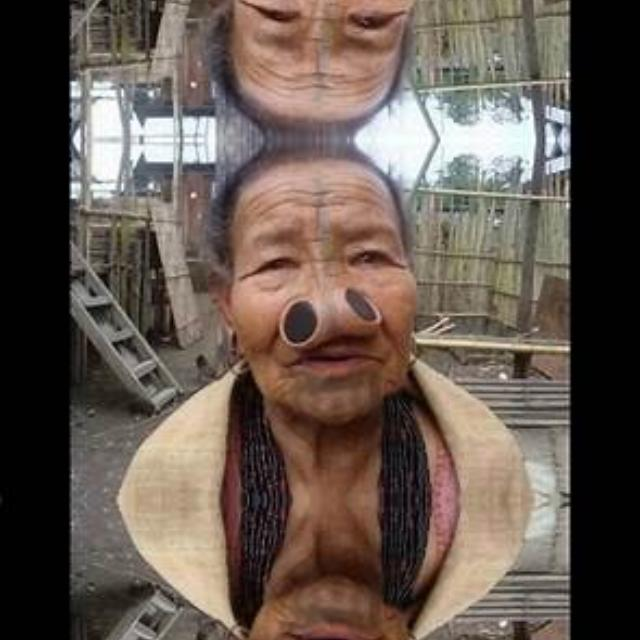person: (151, 141, 479, 499), (151, 499, 479, 640), (151, 0, 479, 137)
